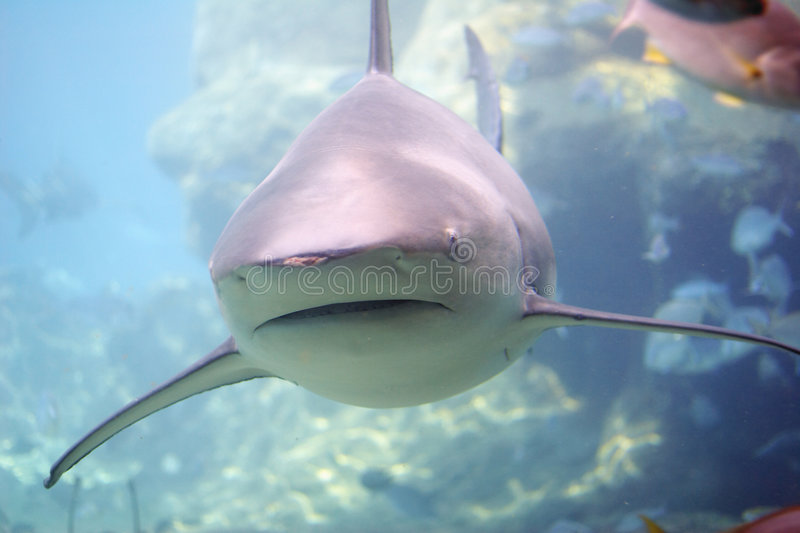shark: (42, 1, 800, 496)
